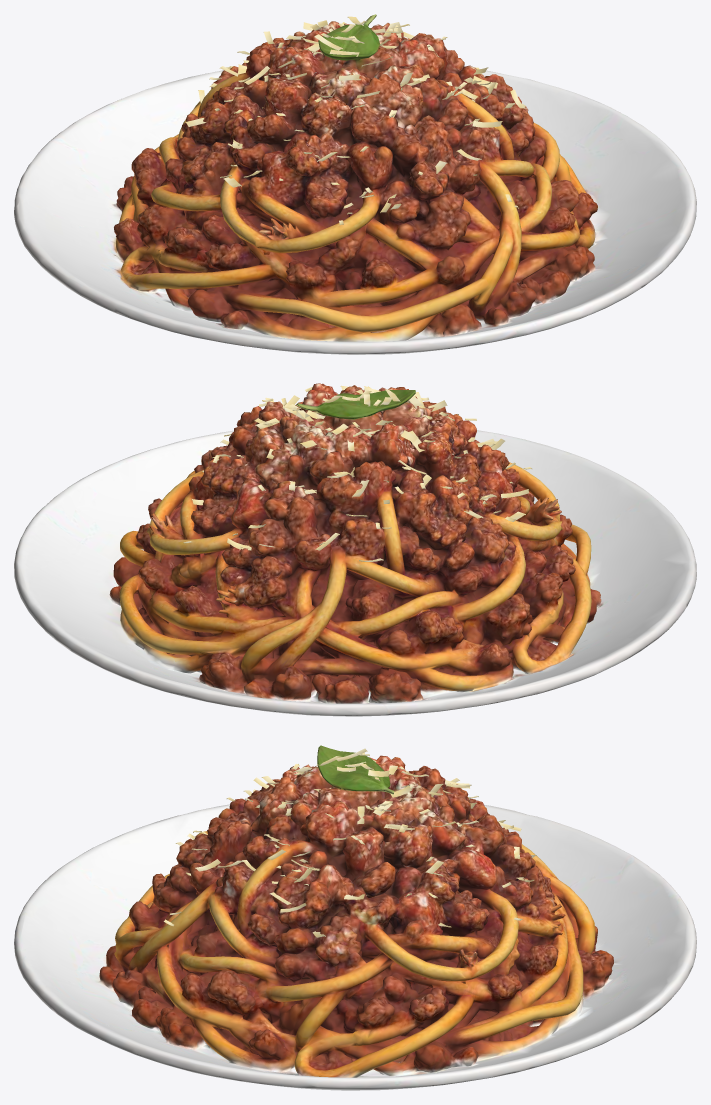
File: pasta.glb
3 renders of one model, top to bottom at view 1: azimuth 30°, elevation 25°; view 2: azimuth 150°, elevation 25°; view 3: azimuth 270°, elevation 25°, orthographic.
Visible parts, largest first — view 1: tripo_node_135eea3e-54af-4471-9780-7bf986daacd5, parmesano_4, parmesano_1, parmesano_2, parmesano_3; view 2: tripo_node_135eea3e-54af-4471-9780-7bf986daacd5, parmesano_4, parmesano_1, parmesano_3, parmesano_2; view 3: tripo_node_135eea3e-54af-4471-9780-7bf986daacd5, parmesano_1, parmesano_4, parmesano_3, parmesano_2.
Part boxes in pixels (box(x1,y1,x2,y2)): tripo_node_135eea3e-54af-4471-9780-7bf986daacd5: box(14, 14, 696, 354); parmesano_4: box(198, 16, 525, 214); parmesano_1: box(230, 23, 514, 224); parmesano_2: box(185, 22, 526, 208); parmesano_3: box(223, 23, 488, 212); tripo_node_135eea3e-54af-4471-9780-7bf986daacd5: box(14, 383, 696, 716); parmesano_4: box(212, 385, 528, 561); parmesano_1: box(224, 386, 532, 550); parmesano_3: box(217, 395, 525, 550); parmesano_2: box(183, 396, 483, 548); tripo_node_135eea3e-54af-4471-9780-7bf986daacd5: box(14, 745, 696, 1090); parmesano_1: box(175, 752, 534, 904); parmesano_4: box(201, 760, 520, 912); parmesano_3: box(186, 748, 529, 885); parmesano_2: box(163, 764, 536, 937).
Bounding box in the file's own units: 0.27 × 0.0973 × 0.2697.
Materials: 2 (2 with a texture image).
